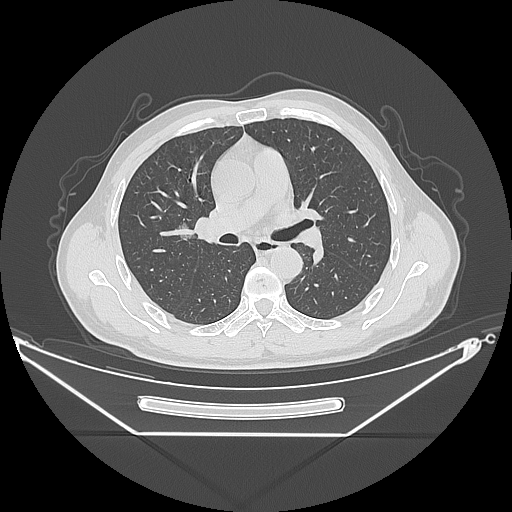nodule: (177, 221, 195, 240)
